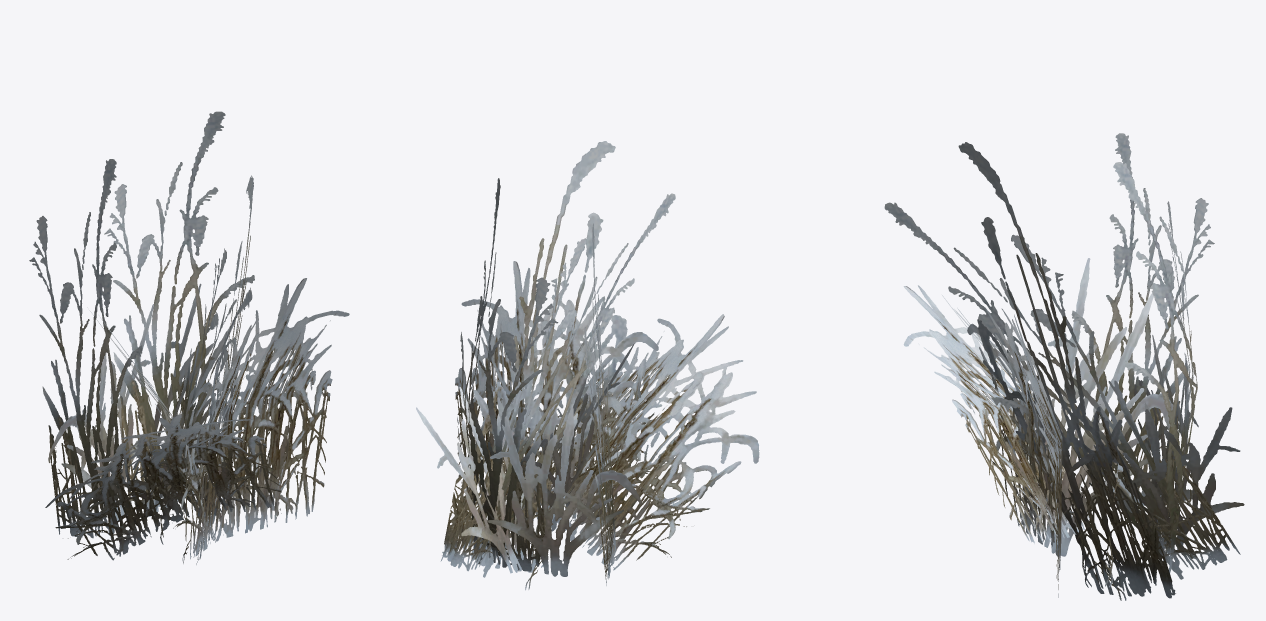
The model's file is Scene_TerrainGrass_6.FBX.
3 views of the same model, side by side, from view 1: azimuth 30°, elevation 25°; view 2: azimuth 150°, elevation 25°; view 3: azimuth 270°, elevation 25° (orthographic). The views are drawn at different scales.
Parts seen in each view (by area): view 1: Scene_TerrainGrass_6; view 2: Scene_TerrainGrass_6; view 3: Scene_TerrainGrass_6.
Part boxes in pixels (x1=…): Scene_TerrainGrass_6: x1=29, y1=111, x2=349, y2=564; Scene_TerrainGrass_6: x1=416, y1=141, x2=759, y2=590; Scene_TerrainGrass_6: x1=884, y1=133, x2=1244, y2=600.
Size of the model in its own units: 107 by 162 by 96.57.
